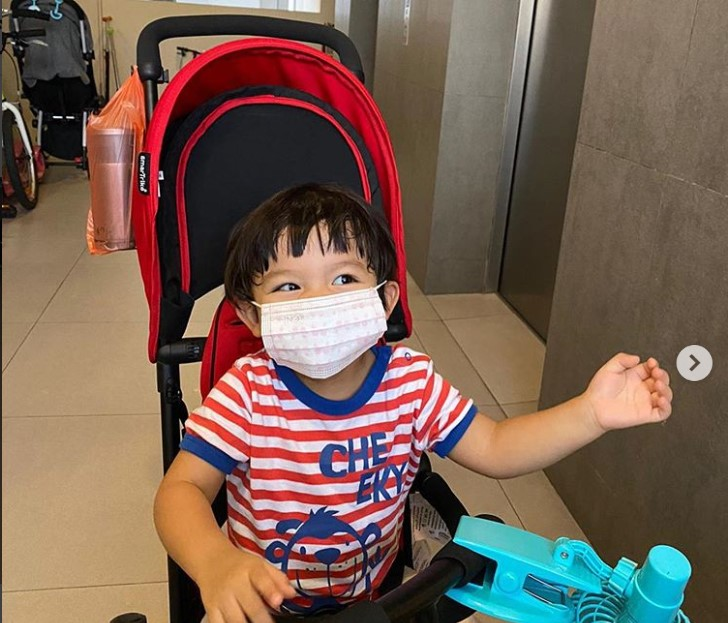face_with_mask: (228, 183, 397, 379)
